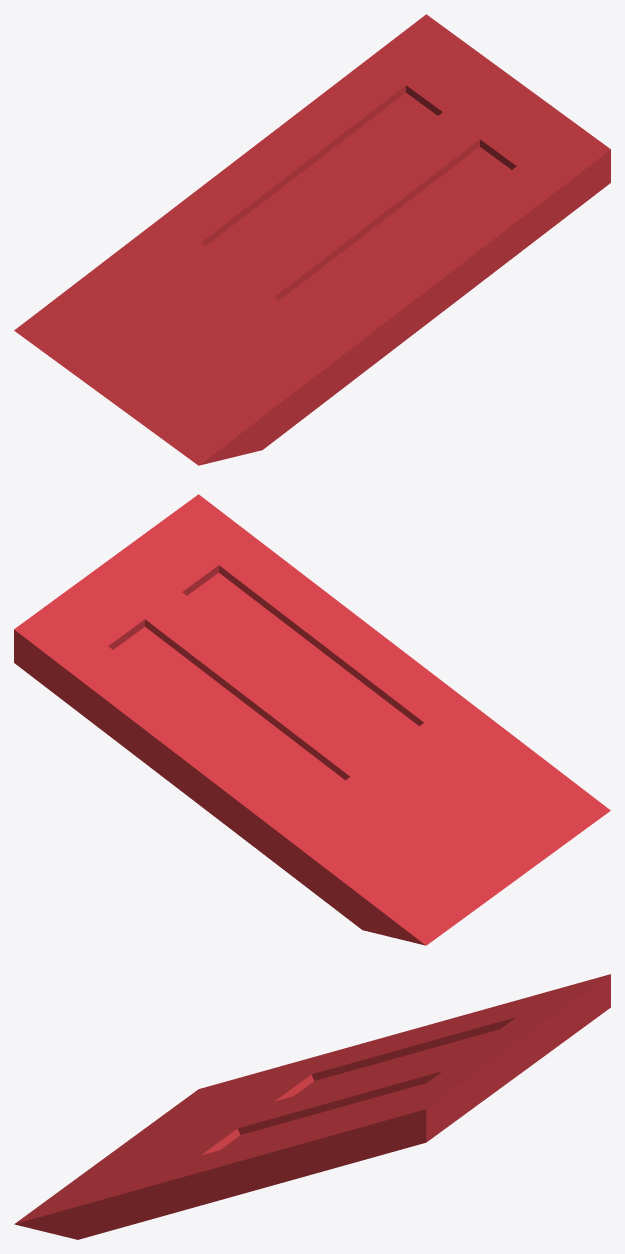
The model's file is roof_small_skylight_3.glb.
The picture shows the model from 3 angles, top to bottom: view 1: azimuth 30°, elevation 25°; view 2: azimuth 150°, elevation 25°; view 3: azimuth 330°, elevation 25°; orthographic projection.
Visible parts, largest first — view 1: roof_small_skylight_3; view 2: roof_small_skylight_3; view 3: roof_small_skylight_3.
Boxes of the visible parts, <box> form: roof_small_skylight_3: <box>14,14,610,465</box>; roof_small_skylight_3: <box>14,494,610,945</box>; roof_small_skylight_3: <box>14,974,610,1239</box>.
Size of the model in its own units: 1.29 by 0.6447 by 1.
